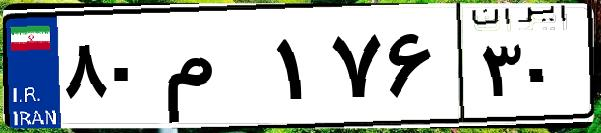0: (525, 38, 570, 115), (110, 28, 158, 98)
1: (270, 28, 330, 110)
3: (475, 38, 525, 113)
6: (385, 28, 445, 110)
7: (330, 28, 385, 110)
8: (57, 26, 110, 100)
م: (158, 20, 270, 120)
